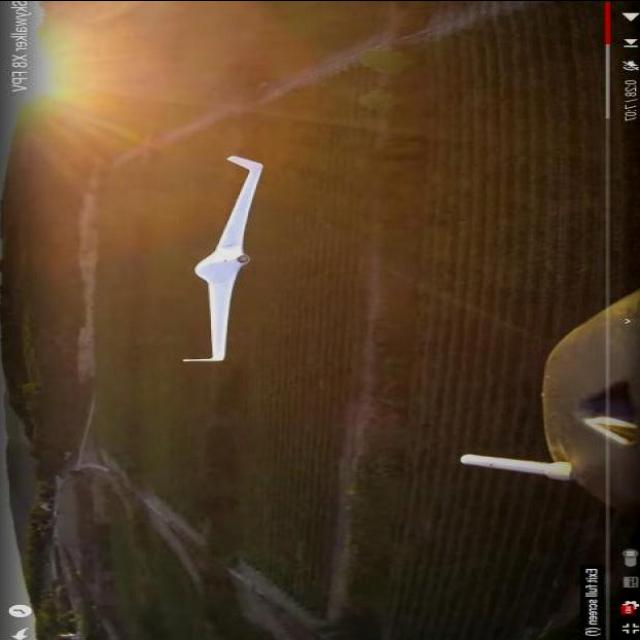plane: (180, 154, 264, 364)
